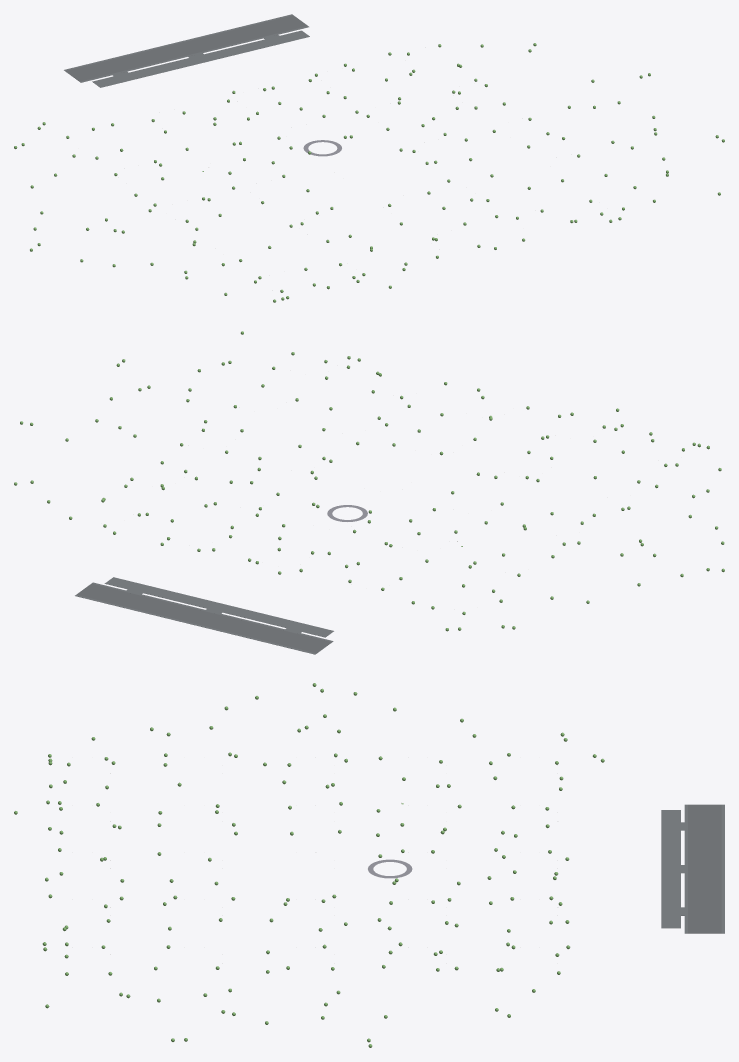
File: gnd_-500_-500.glb
3 views of the same model, one above another, from view 1: azimuth 30°, elevation 25°; view 2: azimuth 150°, elevation 25°; view 3: azimuth 270°, elevation 25° (orthographic). The views are drawn at different scales.
Visible parts, largest first — view 1: ground; view 2: ground; view 3: ground.
Part boxes in pixels (box(x1,y1,x2,y2)): ground: box(14, 14, 724, 302); ground: box(14, 331, 724, 654); ground: box(14, 683, 724, 1047).
Bounding box in the file's own units: 615 × 5.67 × 508.
